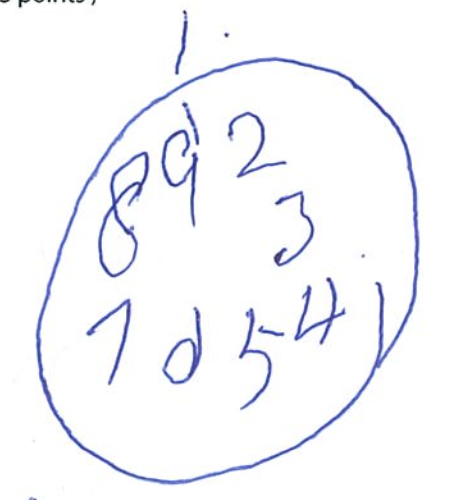1: (180, 95, 209, 145), (174, 2, 189, 78)
2: (221, 110, 291, 180)
3: (272, 187, 315, 267)
4: (291, 276, 349, 346)
5: (231, 305, 286, 411)
7: (82, 295, 135, 387)
8: (96, 151, 151, 276)
9: (163, 122, 200, 231)
contour: (32, 54, 424, 486)
